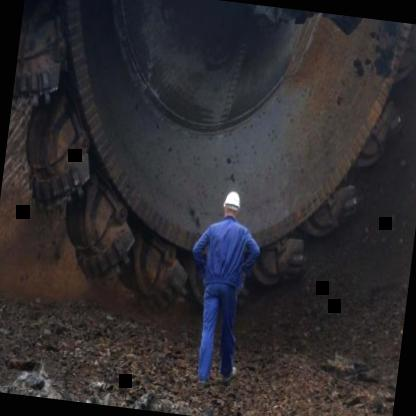helmet: (218, 186, 246, 224)
